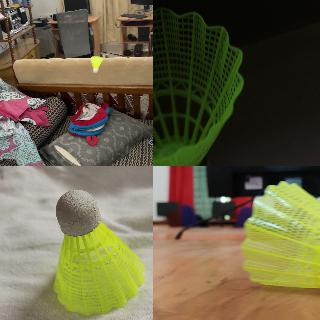shuttlecock: (153, 8, 243, 165), (52, 190, 144, 314), (240, 181, 319, 311), (90, 56, 102, 72)
